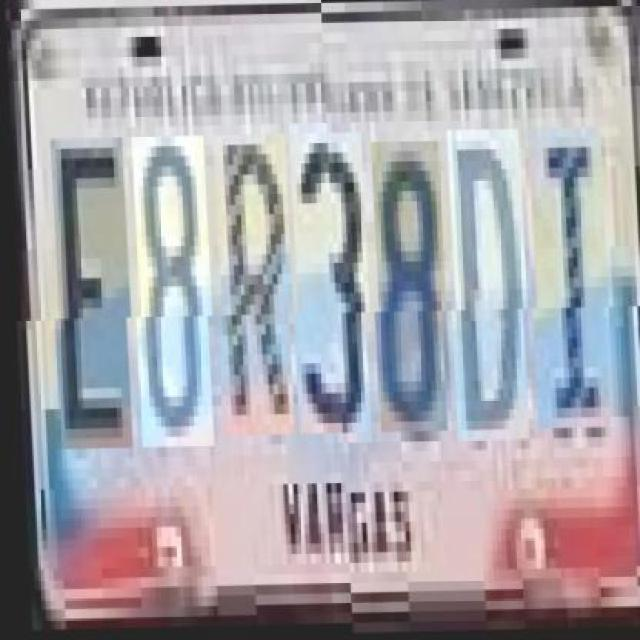3: (287, 133, 371, 444)
8: (130, 147, 215, 458), (368, 142, 448, 433)
d: (445, 130, 529, 442)
e: (49, 148, 134, 460)
i: (526, 130, 611, 432)
r: (211, 145, 295, 447)
